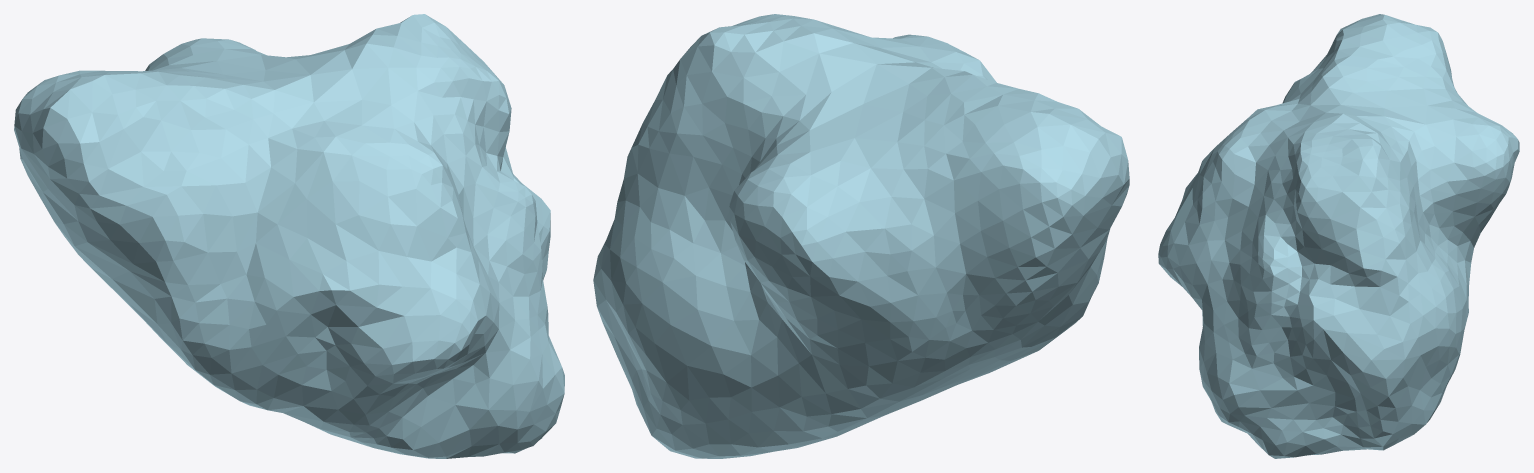
File: livertumor01.obj
3 renders of one model, left to right at view 1: azimuth 30°, elevation 25°; view 2: azimuth 150°, elevation 25°; view 3: azimuth 270°, elevation 25°, orthographic. The views are drawn at different scales.
Parts seen in each view (by area): view 1: grp1; view 2: grp1; view 3: grp1.
Part boxes in pixels (box(x1,y1,x2,y2)): grp1: box(14, 14, 564, 458); grp1: box(593, 14, 1129, 458); grp1: box(1158, 14, 1519, 458).
Size of the model in its own units: 69.14 by 54.89 by 58.76.
